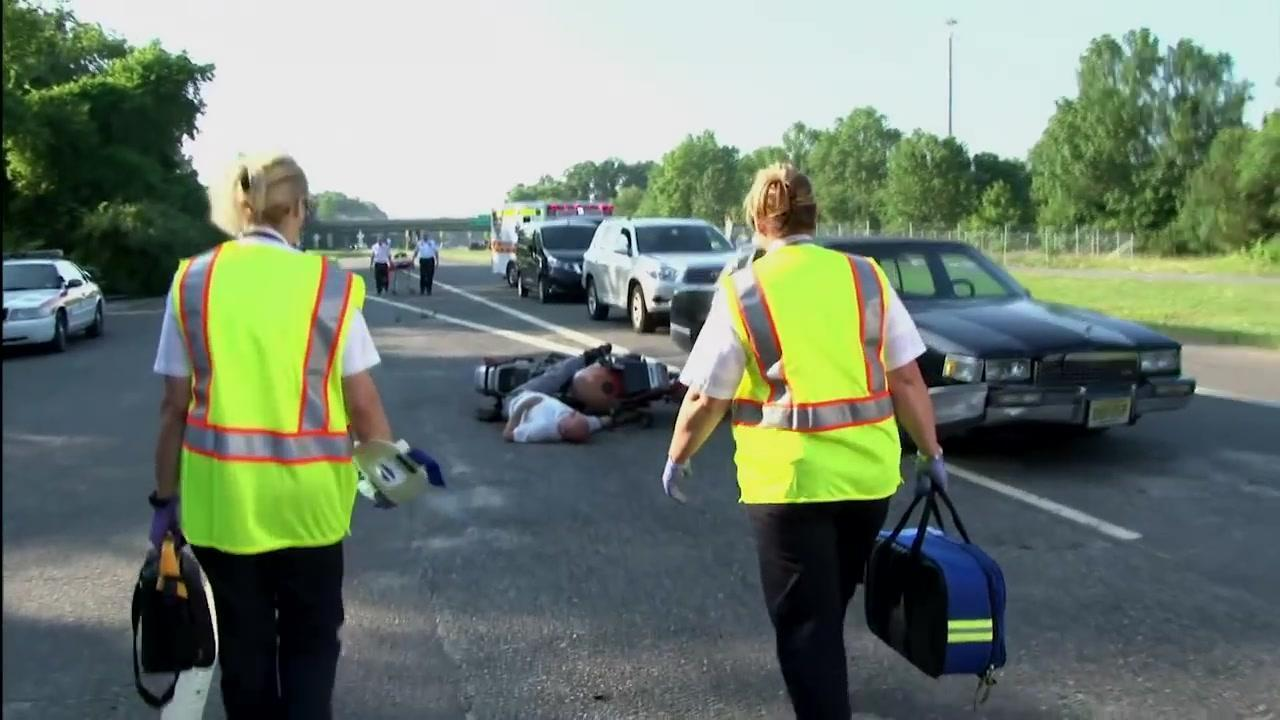Glass: (169, 238, 370, 553), (723, 239, 903, 502)
